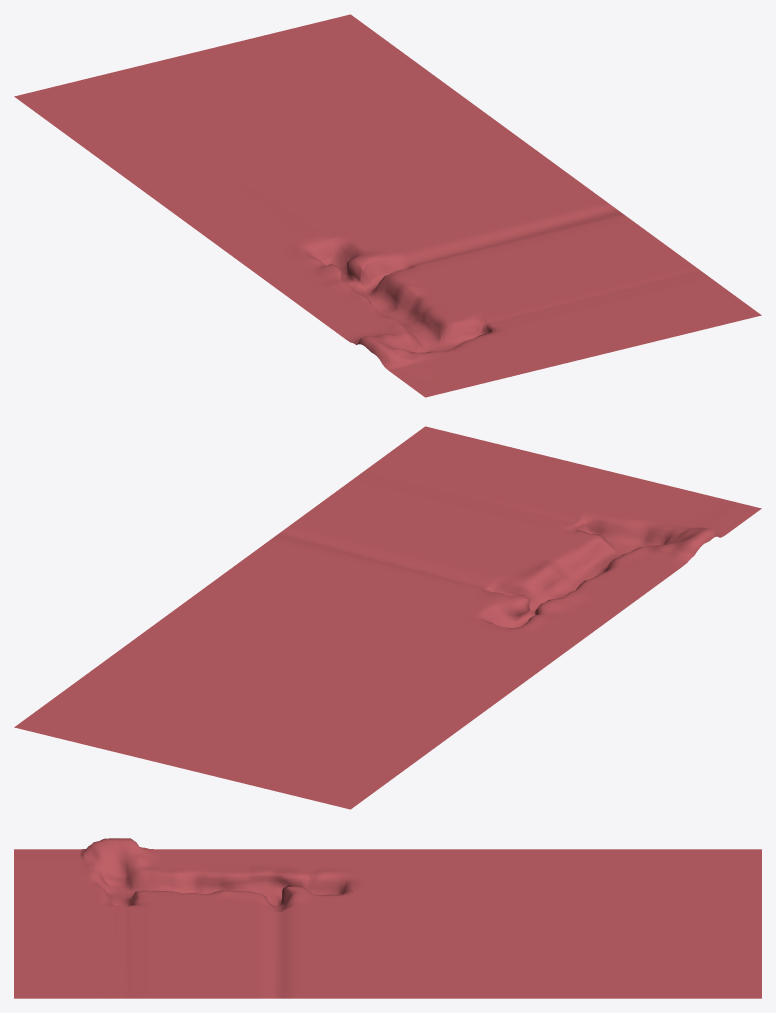
Rendered from desert_plane.fbx.
3 views of the same model, one above another, from view 1: azimuth 30°, elevation 25°; view 2: azimuth 150°, elevation 25°; view 3: azimuth 270°, elevation 25° (orthographic). The views are drawn at different scales.
Parts seen in each view (by area): view 1: desert_map_rough:world; view 2: desert_map_rough:world; view 3: desert_map_rough:world.
Part boxes in pixels (left/top/right/bottom): desert_map_rough:world: left=14, top=14, right=761, bottom=397; desert_map_rough:world: left=14, top=426, right=761, bottom=809; desert_map_rough:world: left=14, top=838, right=761, bottom=998.
Size of the model in its own units: 5773 by 561 by 12168.
